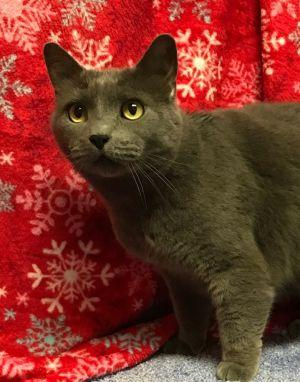rblue: (31, 28, 198, 199)
